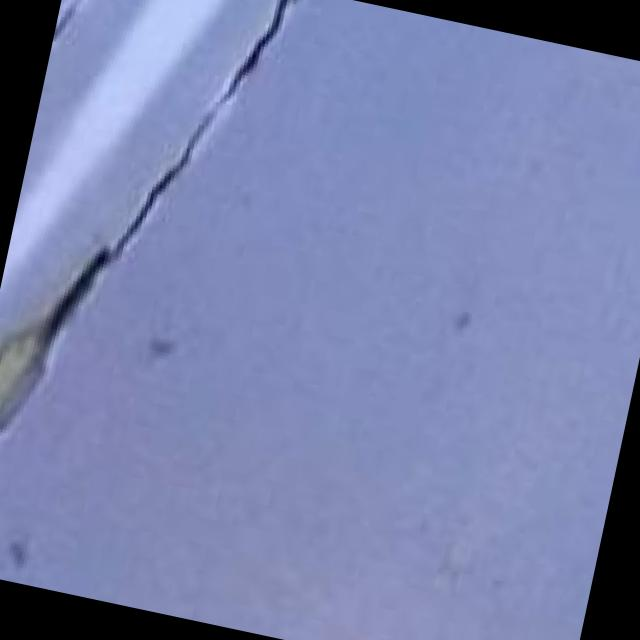crack: (0, 0, 314, 502)
